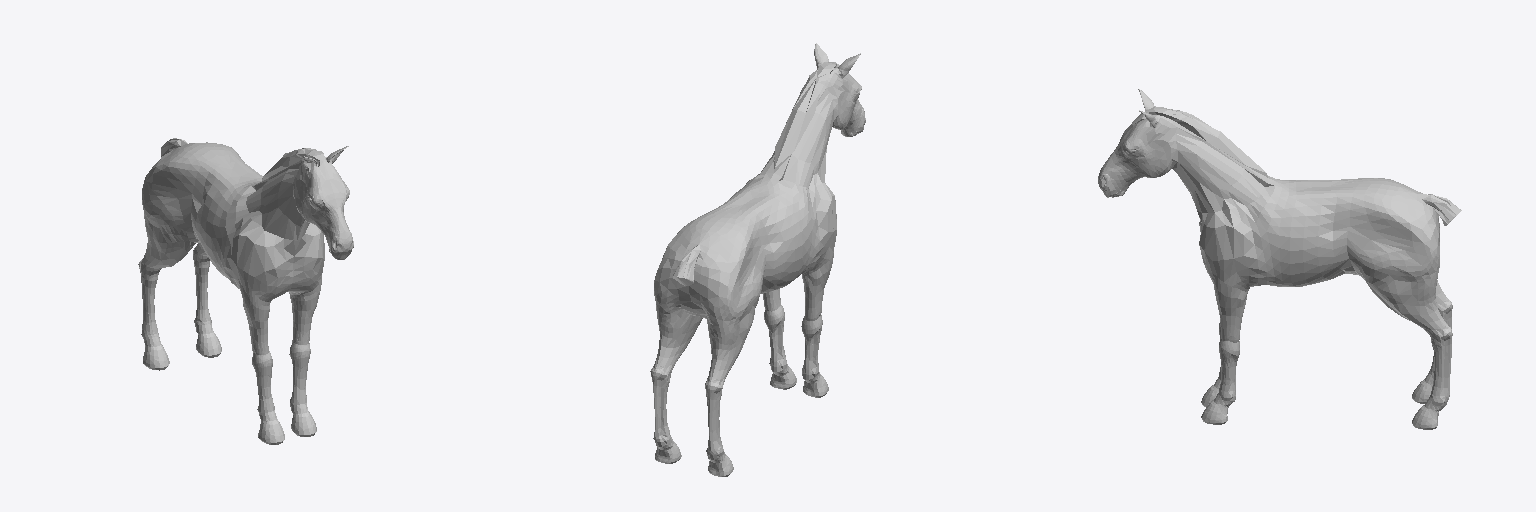
Rendered from HRS_CLYD.OBJ.
3 renders of one model, left to right at view 1: azimuth 30°, elevation 25°; view 2: azimuth 150°, elevation 25°; view 3: azimuth 270°, elevation 25°, orthographic.
Parts seen in each view (by area): view 1: clyd_body; view 2: clyd_body; view 3: clyd_body.
Boxes of the visible parts, box(x1,y1,x2,y2) form: clyd_body: box(138, 138, 353, 444); clyd_body: box(650, 43, 865, 476); clyd_body: box(1098, 89, 1461, 429).
Size of the model in its own units: 0.6971 by 2.45 by 2.58.